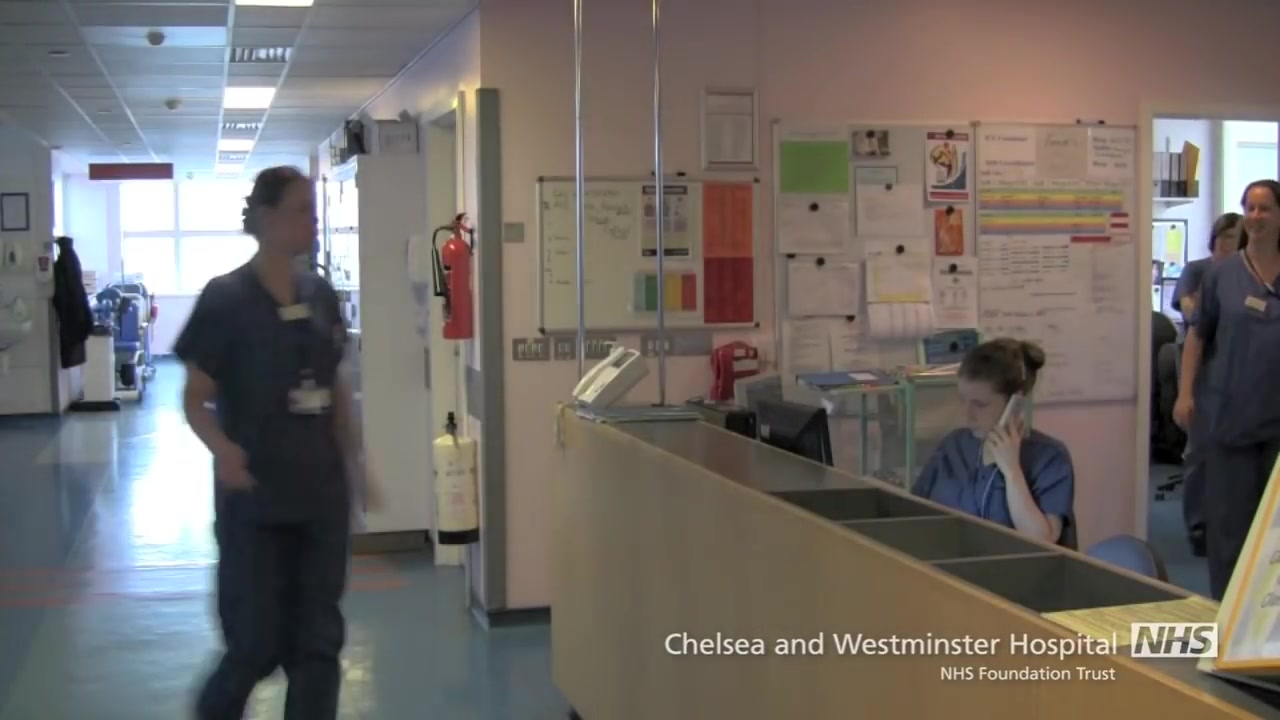chair: (1084, 534, 1167, 584)
computer: (748, 395, 835, 469)
counter: (569, 420, 1268, 720)
countertop: (560, 404, 1280, 720)
dispenser: (405, 236, 433, 286), (33, 248, 56, 285), (1, 243, 22, 272)
hospital_bed: (89, 282, 159, 402)
sink: (1, 317, 32, 351)
staff: (172, 166, 384, 720), (1174, 179, 1280, 604), (908, 336, 1075, 546), (1172, 210, 1249, 324)
telephone: (569, 344, 654, 415)
